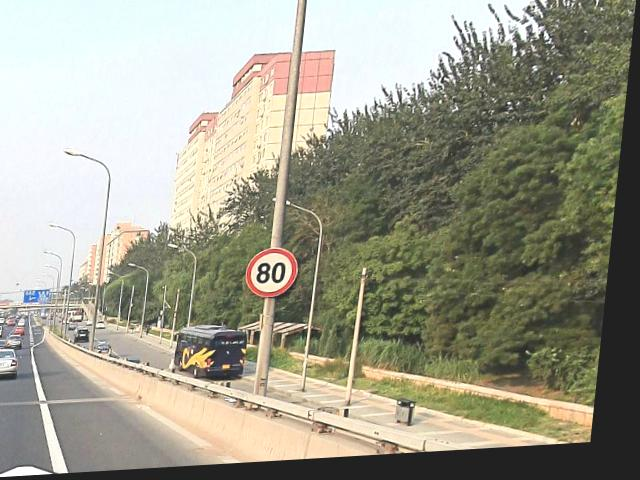limit80: (249, 246, 310, 304)
